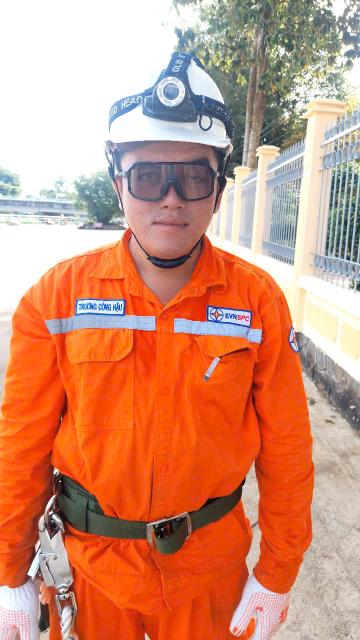gloves: (198, 563, 309, 640), (0, 569, 62, 640)
harness: (53, 463, 262, 562)
helmet: (98, 44, 253, 168)
